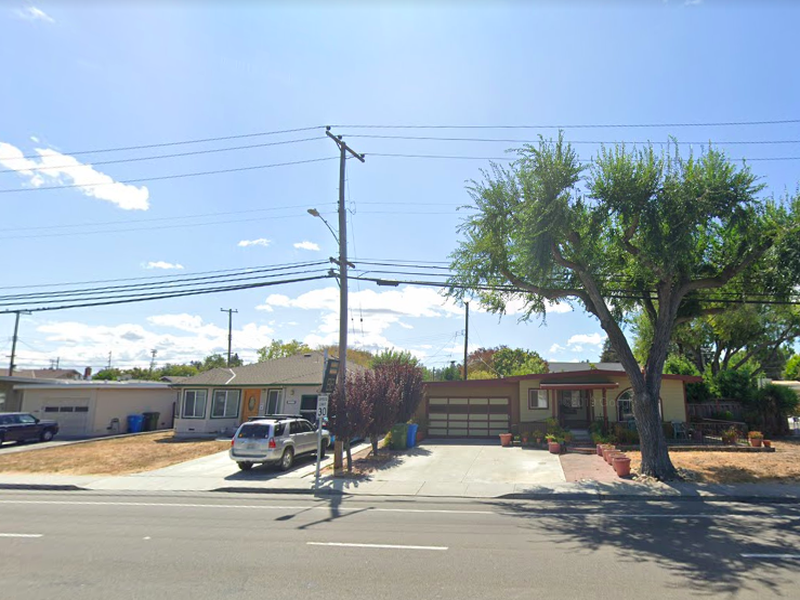tree: (439, 127, 800, 481)
utility_pole: (314, 114, 370, 190)
